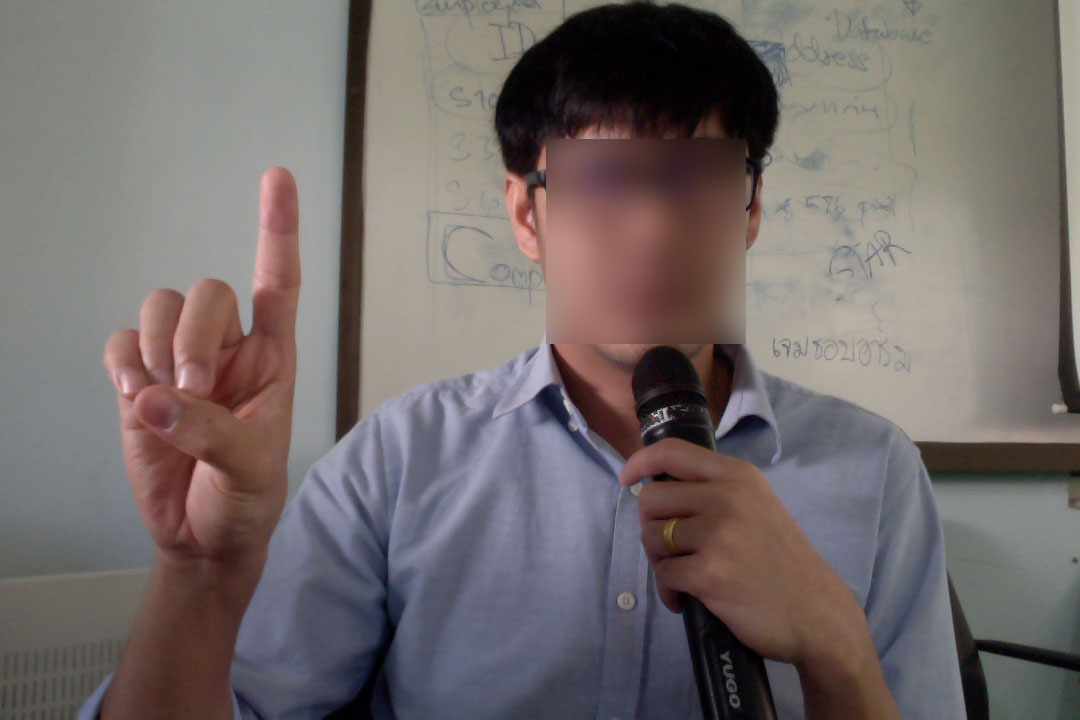dor: (89, 141, 317, 589)
